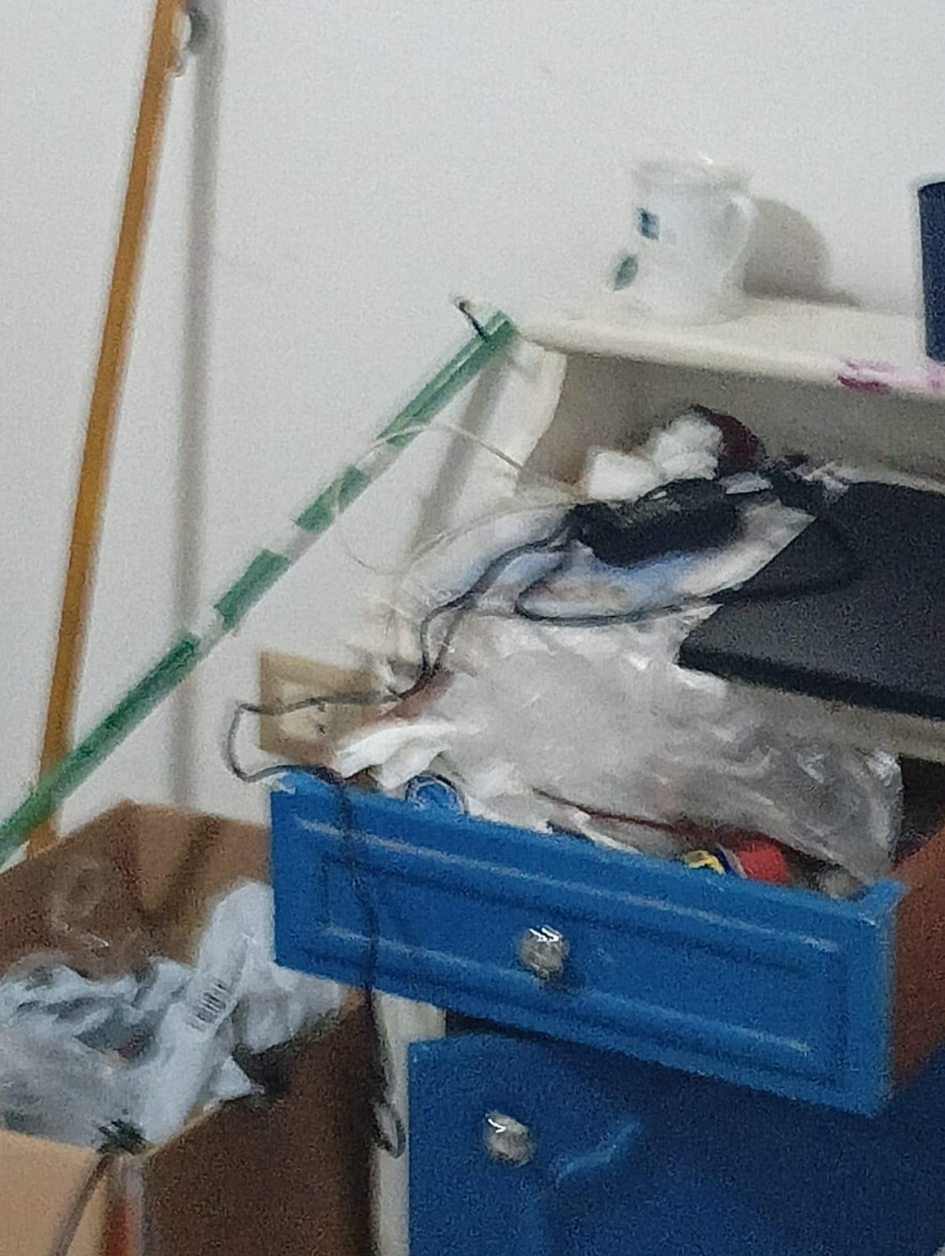cup: (629, 155, 754, 323), (917, 179, 944, 363)
